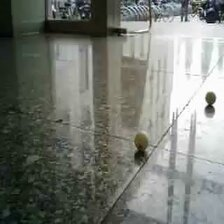w: (134, 130, 150, 150), (204, 91, 216, 106)
